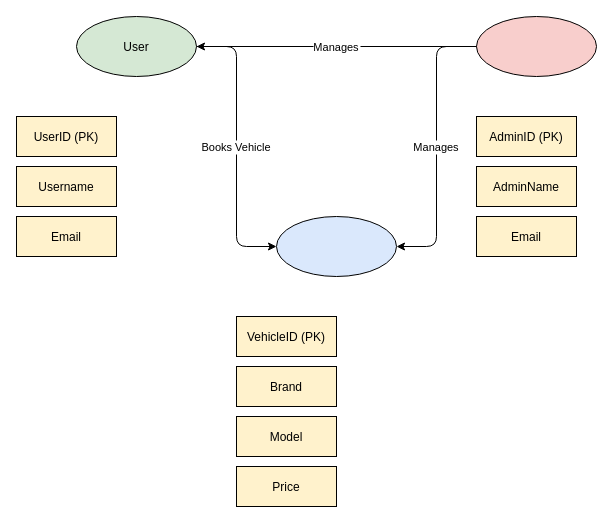
Some shapes in this 613 by 523 pixel diagram are drawn without their labels. The centre of each missing label's shape, as x and y in pixels:
"Admin" belongs at (536,46).
"Vehicle" belongs at (336,246).
